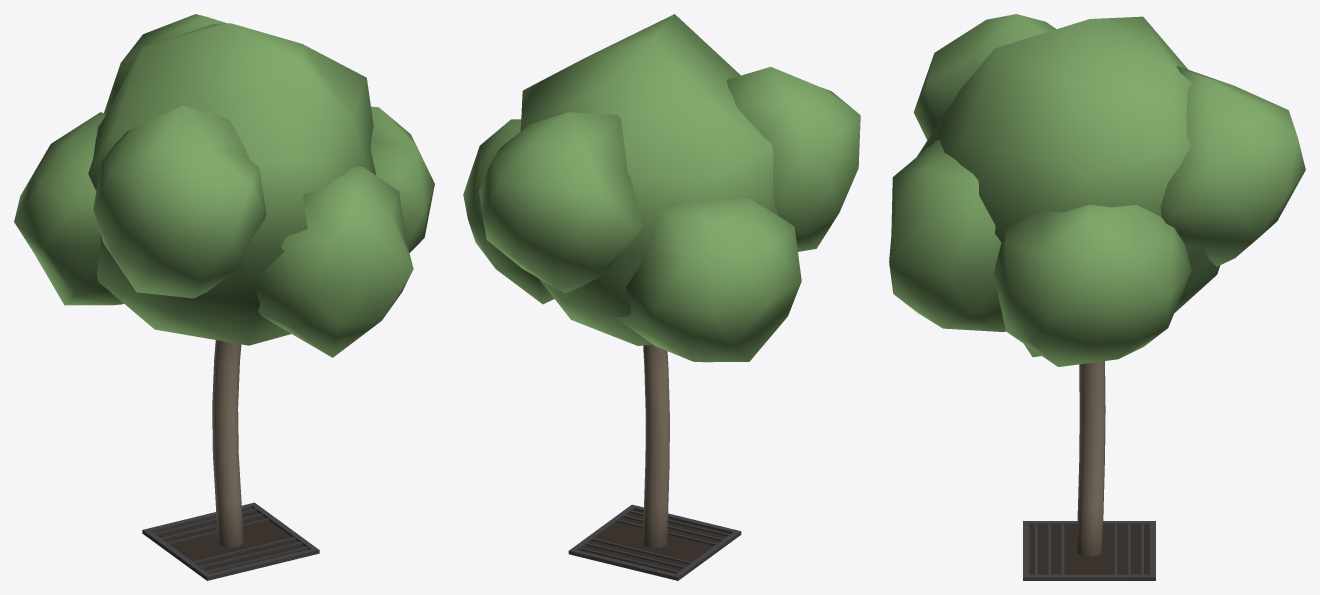
Rendered from tr_round.glb.
3 renders of one model, left to right at view 1: azimuth 30°, elevation 25°; view 2: azimuth 150°, elevation 25°; view 3: azimuth 270°, elevation 25°, orthographic. The views are drawn at different scales.
Parts seen in each view (by area): view 1: body; view 2: body; view 3: body.
Boxes of the visible parts, <box> form: body: <box>14,14,434,580</box>; body: <box>463,14,860,580</box>; body: <box>889,14,1305,580</box>.
Bounding box in the file's own units: 4.14 × 5.76 × 4.07.
